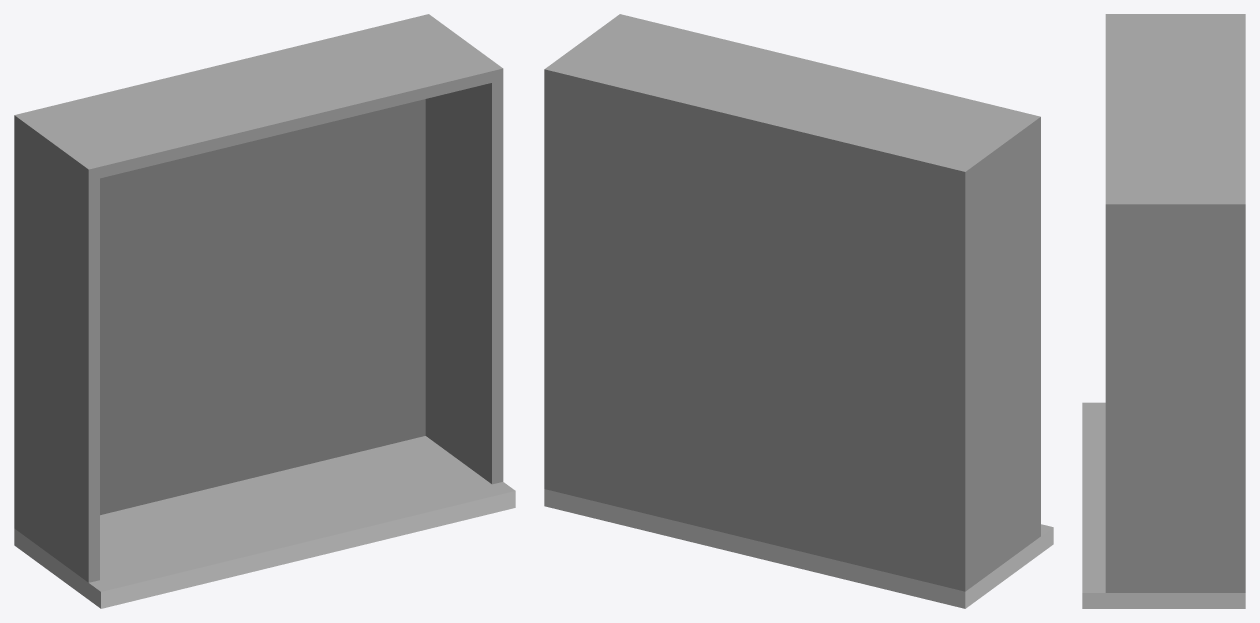
File: Drawer_Acc.obj
3 renders of one model, left to right at view 1: azimuth 30°, elevation 25°; view 2: azimuth 150°, elevation 25°; view 3: azimuth 270°, elevation 25°, orthographic. The views are drawn at different scales.
Parts seen in each view (by area): view 1: Drawer_Acc; view 2: Drawer_Acc; view 3: Drawer_Acc.
Part boxes in pixels (x1,y1,x2,y2): Drawer_Acc: [14, 14, 515, 608]; Drawer_Acc: [544, 14, 1053, 608]; Drawer_Acc: [1082, 14, 1245, 608].
Bounding box in the file's own units: 0.4714 × 0.4676 × 0.171.
